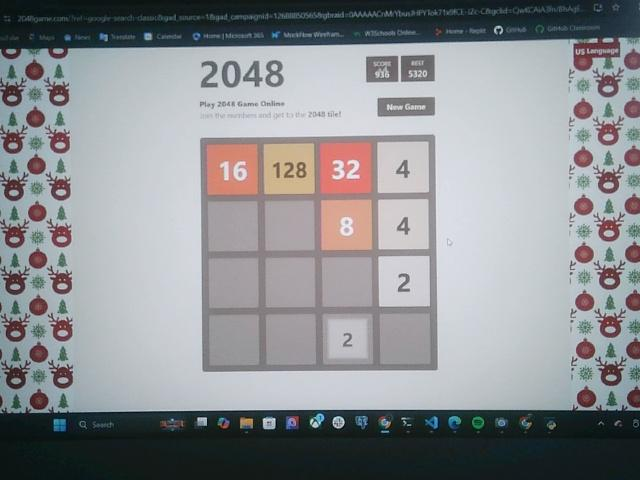board: (202, 137, 438, 371)
tile: (320, 200, 373, 252), (378, 141, 429, 193), (379, 199, 430, 250), (379, 256, 431, 306), (264, 143, 314, 194), (207, 144, 257, 194), (321, 143, 371, 193)
